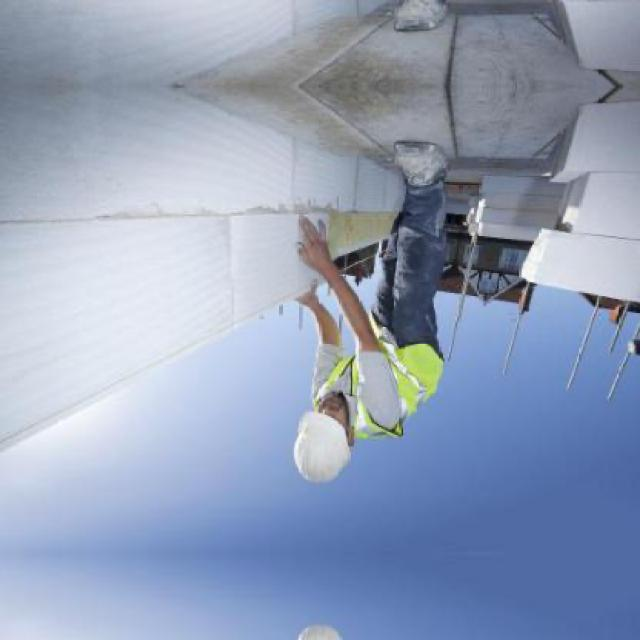con casco: (269, 362, 409, 510)
